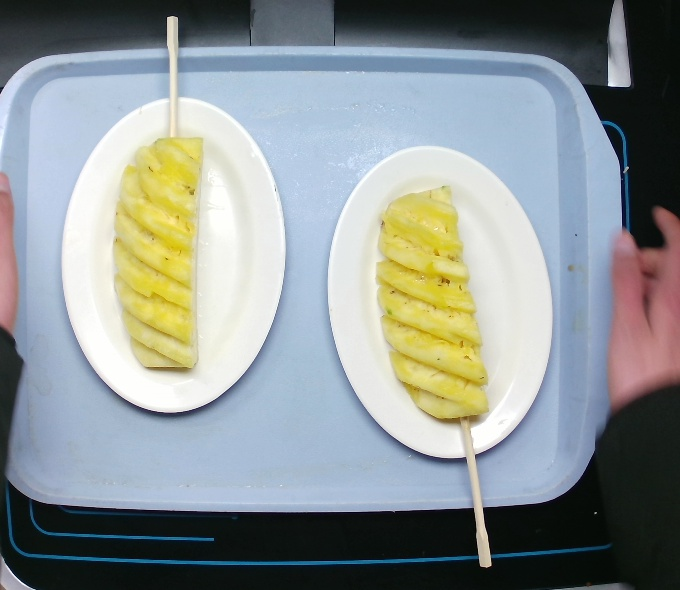wcq-BoLuo: (366, 184, 493, 452), (102, 102, 220, 383)
